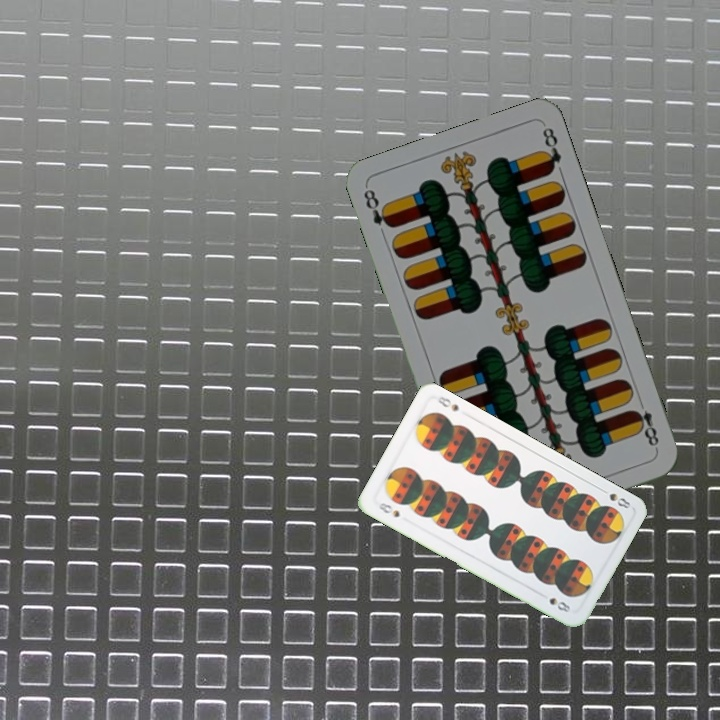E8: (628, 395, 662, 453), (359, 185, 396, 231)
S8: (596, 484, 633, 511), (374, 498, 402, 520)
